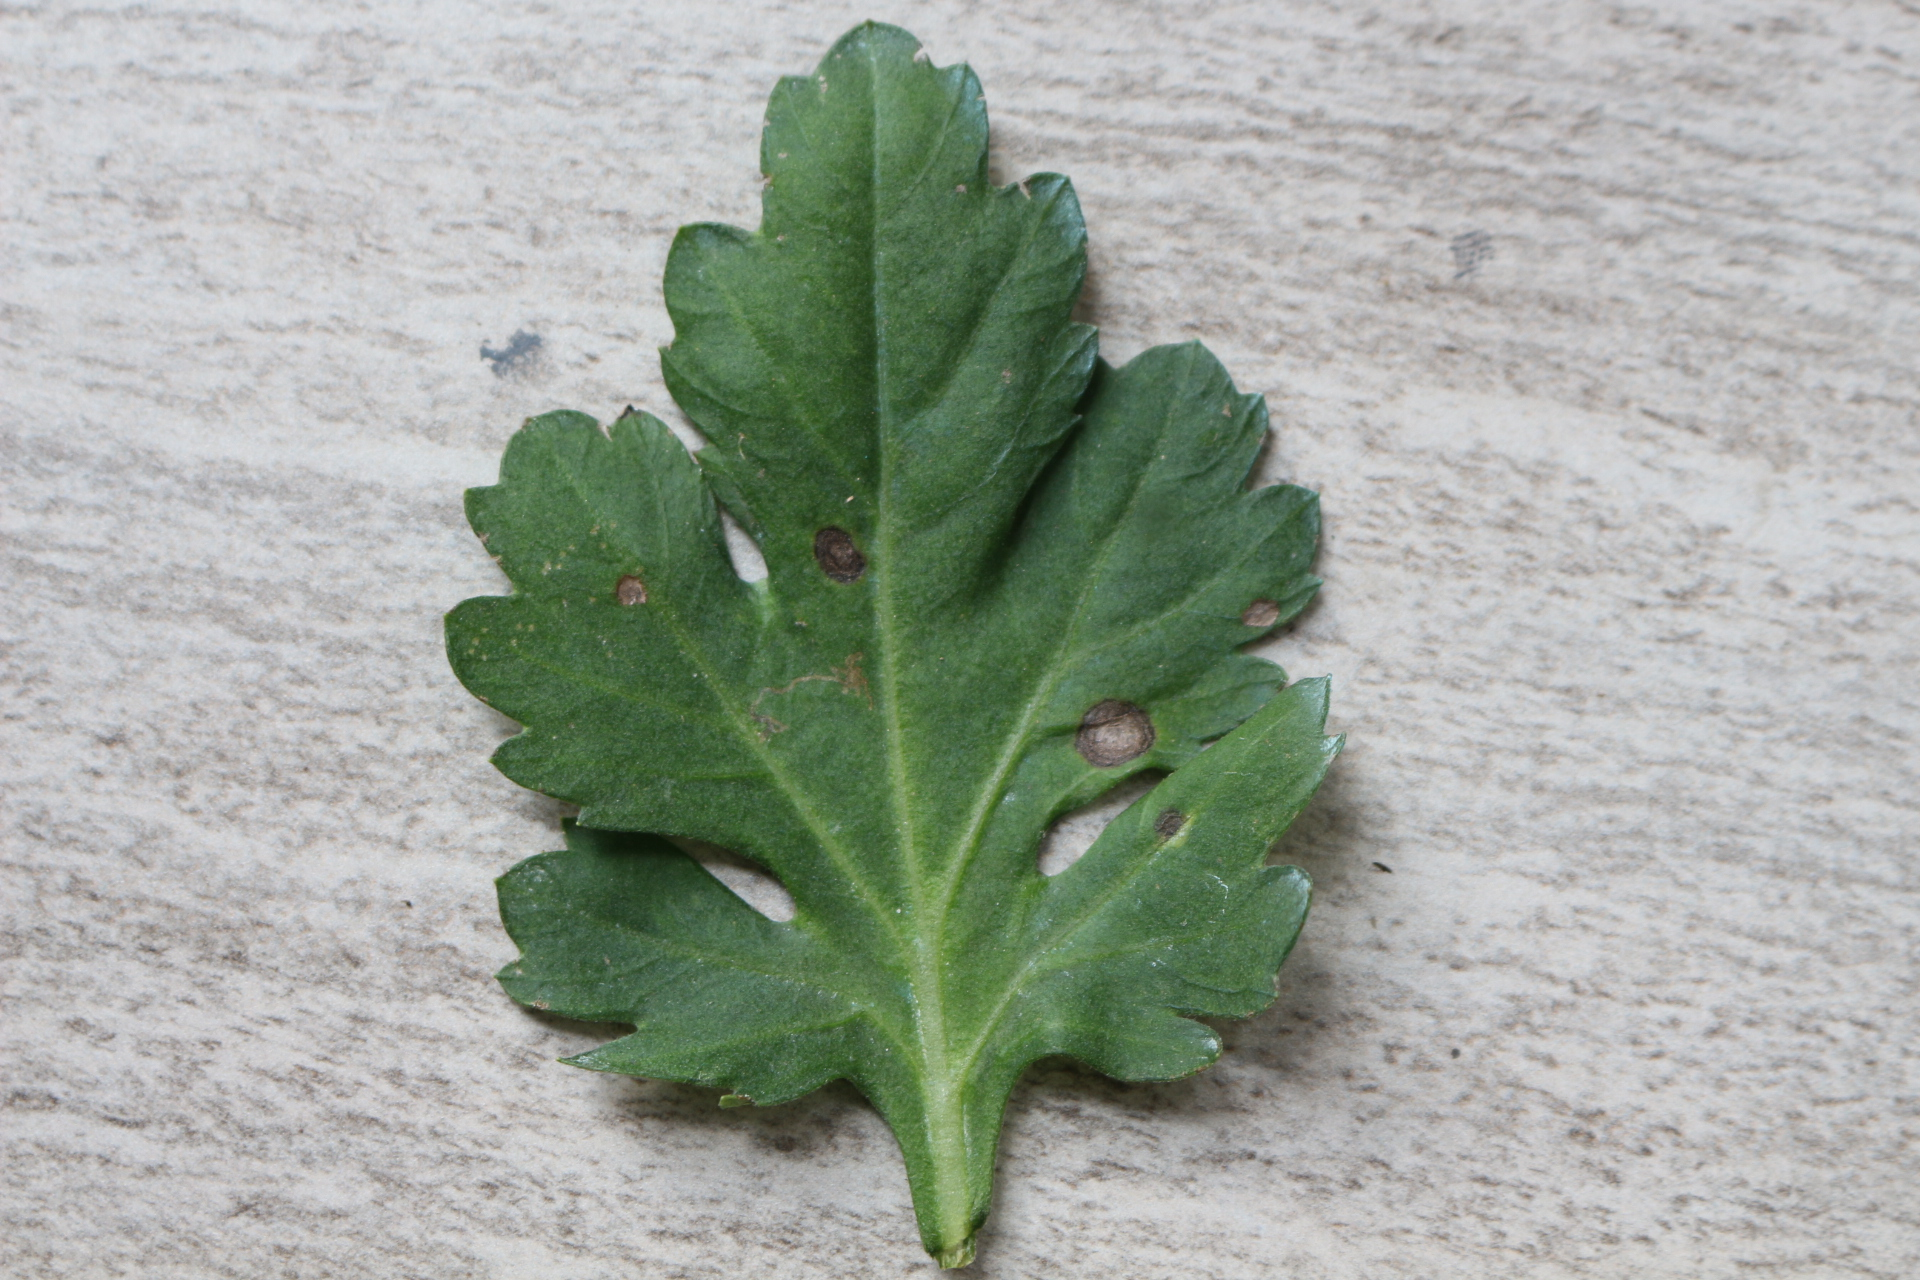namden: (1070, 694, 1159, 771), (810, 517, 879, 594), (1150, 804, 1194, 851), (610, 571, 653, 611), (1243, 599, 1289, 633)
